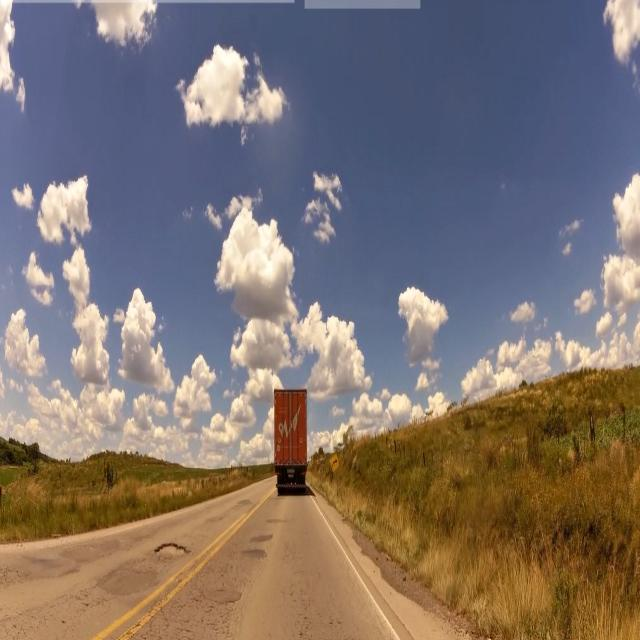A-2b: (328, 453, 341, 476)
